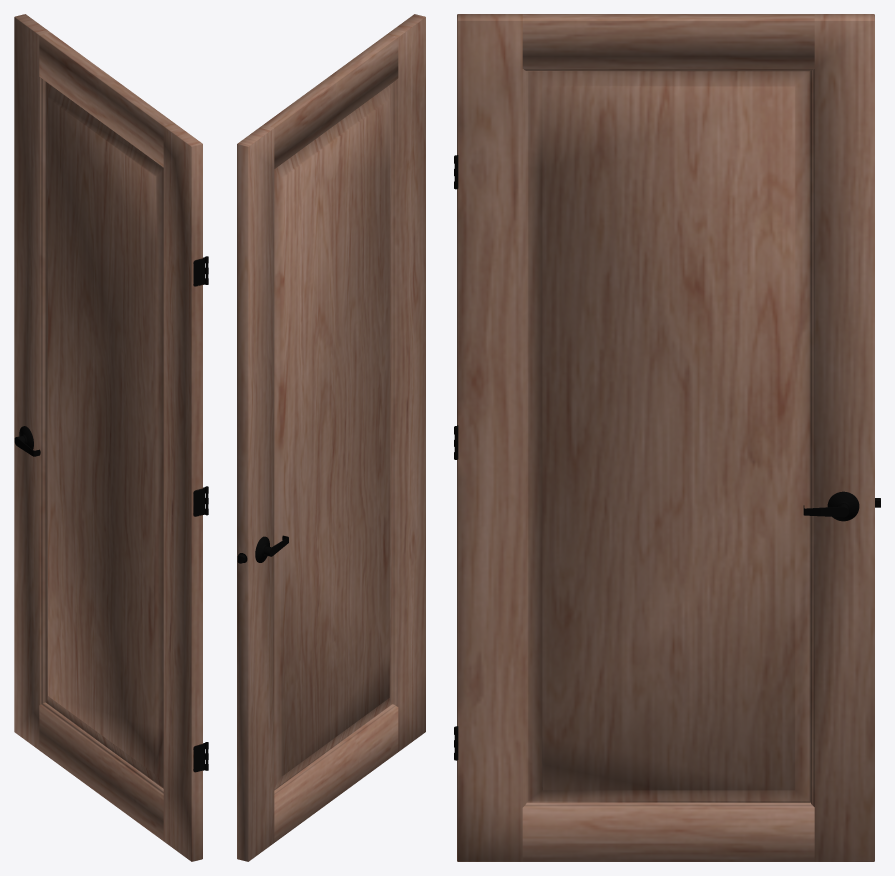
File: visual_Door_right_door_one_panel_wood_dark.dae
The picture shows the model from 3 angles, left to right: view 1: azimuth 30°, elevation 25°; view 2: azimuth 150°, elevation 25°; view 3: azimuth 270°, elevation 25°; orthographic projection. The views are drawn at different scales.
Parts seen in each view (by area): view 1: visual_Door_right_door_one_panel_wood_dark; view 2: visual_Door_right_door_one_panel_wood_dark; view 3: visual_Door_right_door_one_panel_wood_dark.
Part boxes in pixels (<box>): visual_Door_right_door_one_panel_wood_dark: <box>14,14,208,861</box>; visual_Door_right_door_one_panel_wood_dark: <box>237,14,425,861</box>; visual_Door_right_door_one_panel_wood_dark: <box>454,14,880,861</box>.
Size of the model in its own units: 0.0978 by 0.9313 by 2.03.
1 material, 1 textured.
